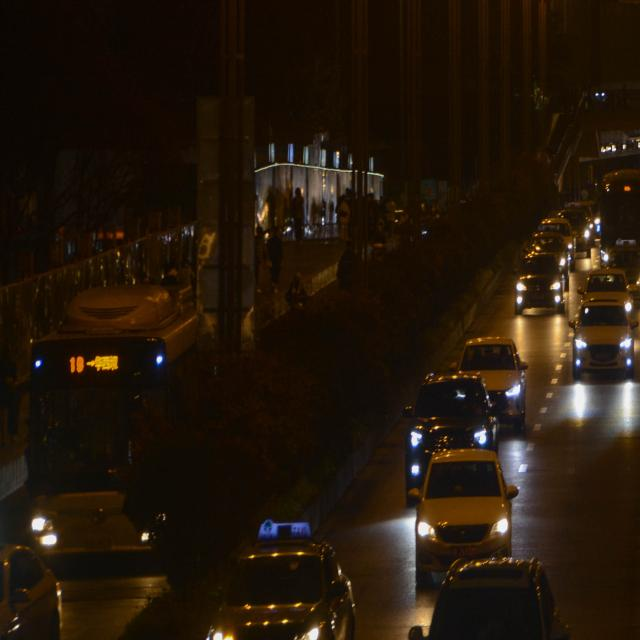bus: (26, 279, 203, 551), (595, 168, 640, 279)
car: (204, 517, 355, 640), (410, 448, 515, 574), (412, 555, 564, 640), (402, 373, 502, 494), (450, 335, 527, 434), (0, 540, 64, 640), (570, 297, 638, 378), (513, 253, 564, 315), (577, 270, 633, 324), (526, 231, 572, 290), (604, 242, 640, 303), (556, 208, 592, 260)
